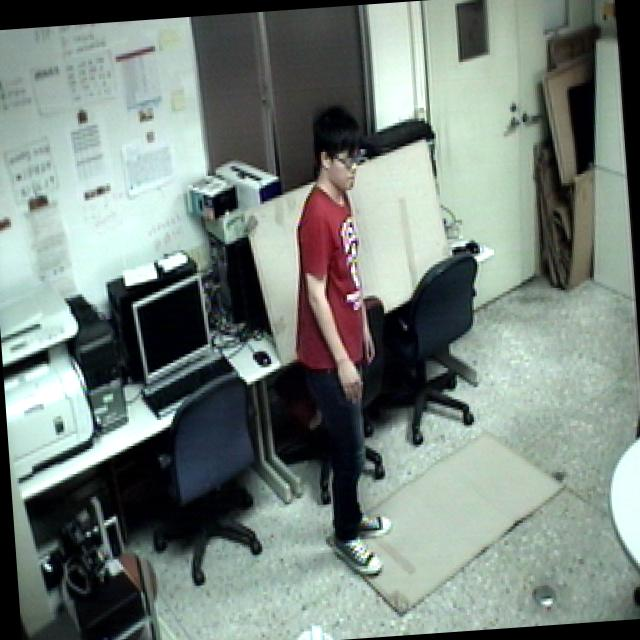stand: (274, 100, 409, 585)
